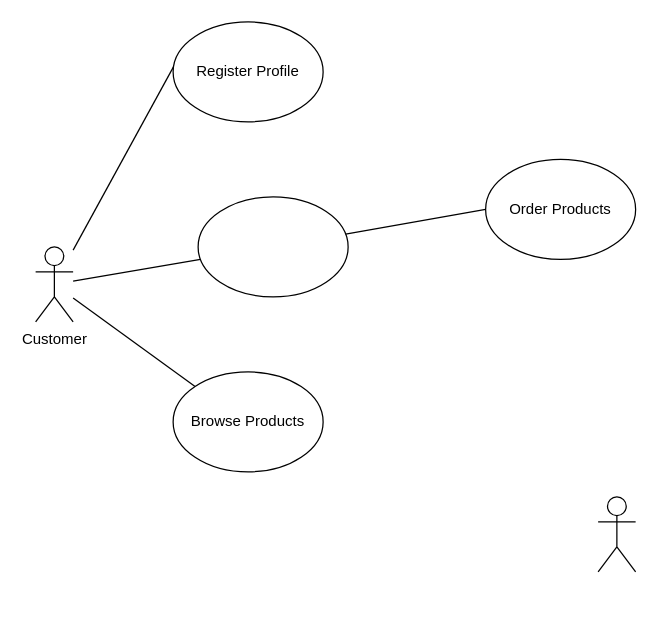
The diagram is 670 pixels wide and 620 high, and some of its shapes have lost their labels. Each missing label, with the centre of its shape:
Checkout: the point at 272,246
Database: the point at 616,534
